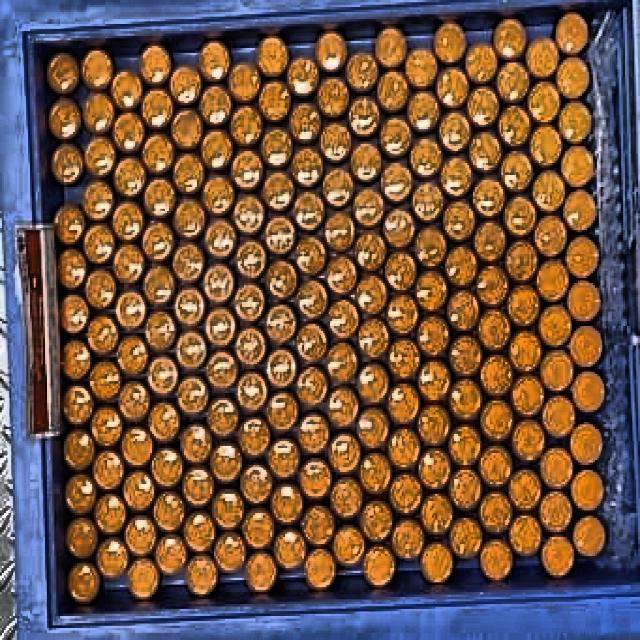vial: (531, 170, 567, 213), (125, 558, 161, 601), (538, 304, 573, 348), (542, 395, 577, 439), (298, 457, 333, 501), (66, 560, 101, 604), (145, 353, 179, 398), (61, 427, 95, 472), (444, 244, 479, 287), (540, 535, 575, 578), (328, 476, 363, 519), (182, 510, 217, 553), (266, 437, 301, 480), (356, 406, 391, 449), (326, 385, 361, 428), (175, 374, 210, 417), (345, 50, 379, 94), (557, 101, 591, 145), (529, 124, 563, 168), (563, 189, 597, 233), (503, 194, 537, 238), (505, 239, 539, 283), (413, 225, 447, 269), (411, 179, 445, 223), (567, 280, 601, 324), (510, 374, 544, 418), (479, 491, 513, 535), (273, 527, 307, 571), (331, 524, 365, 568), (364, 544, 397, 589), (148, 400, 180, 446), (446, 290, 481, 332), (570, 469, 605, 511), (416, 316, 451, 358), (448, 469, 483, 511), (302, 548, 337, 590), (356, 362, 391, 404), (93, 493, 128, 535), (123, 515, 158, 557), (141, 132, 175, 175), (379, 115, 413, 158), (497, 105, 531, 148), (565, 235, 599, 278), (540, 350, 574, 393), (179, 421, 213, 464), (377, 69, 410, 113), (572, 371, 605, 415), (245, 550, 278, 594), (96, 536, 129, 580), (287, 54, 319, 99), (527, 81, 562, 122), (448, 379, 483, 420), (416, 405, 451, 446), (300, 505, 335, 546), (239, 464, 274, 505), (181, 467, 216, 508), (233, 325, 268, 366), (149, 447, 184, 488), (154, 534, 189, 575), (199, 83, 233, 125), (561, 146, 595, 188), (473, 220, 507, 262), (439, 155, 473, 197), (201, 263, 235, 305), (265, 259, 299, 301), (415, 270, 449, 312), (507, 284, 541, 326), (508, 330, 542, 372), (573, 515, 607, 557), (539, 491, 573, 533), (509, 469, 543, 511), (387, 383, 421, 425), (328, 431, 362, 473), (297, 412, 331, 454), (237, 416, 271, 458), (265, 390, 299, 432), (235, 371, 269, 413), (174, 330, 208, 372), (205, 396, 239, 438), (61, 383, 95, 425), (526, 36, 559, 79), (556, 12, 589, 55), (86, 314, 119, 357), (570, 422, 603, 465), (480, 539, 513, 582), (270, 482, 303, 525), (296, 278, 329, 321), (264, 302, 297, 345), (118, 380, 151, 423), (64, 473, 97, 516), (153, 490, 186, 533), (259, 79, 291, 123), (465, 40, 497, 84), (473, 174, 505, 218), (141, 88, 175, 129), (229, 105, 263, 146), (319, 122, 353, 163), (435, 67, 469, 108), (494, 19, 528, 60), (495, 62, 529, 103), (499, 151, 533, 192), (469, 132, 503, 173), (533, 216, 567, 257), (383, 208, 417, 249), (142, 177, 176, 218), (113, 156, 147, 197), (110, 201, 144, 242), (509, 515, 543, 556), (480, 400, 514, 441), (448, 335, 482, 376), (241, 508, 275, 549), (184, 555, 218, 596), (295, 365, 329, 406), (205, 350, 239, 391), (90, 405, 124, 446), (120, 426, 154, 467), (122, 470, 156, 511), (48, 98, 81, 140), (112, 112, 145, 154), (256, 35, 289, 77), (315, 30, 348, 72), (556, 57, 589, 99), (84, 268, 117, 310), (512, 419, 545, 461), (479, 445, 512, 487), (480, 354, 513, 396), (418, 359, 451, 401), (448, 424, 481, 466), (449, 517, 482, 559), (420, 541, 453, 583), (420, 493, 453, 535), (388, 428, 421, 470), (213, 531, 246, 573), (360, 500, 393, 542), (210, 442, 243, 484), (264, 346, 297, 388), (173, 285, 206, 327), (92, 450, 125, 492), (407, 90, 439, 133), (537, 259, 569, 302), (392, 518, 424, 561), (212, 487, 244, 530), (358, 316, 390, 359), (117, 334, 149, 377), (232, 282, 267, 321), (61, 338, 92, 382), (347, 96, 381, 136), (263, 215, 297, 255), (293, 237, 327, 277), (82, 93, 115, 134), (110, 69, 143, 110), (228, 62, 261, 103), (433, 22, 466, 63), (476, 266, 509, 307), (322, 168, 355, 209), (292, 191, 325, 232), (172, 153, 205, 194), (232, 194, 265, 235), (82, 223, 115, 264), (54, 203, 87, 244), (114, 290, 147, 331), (354, 230, 387, 271), (384, 251, 417, 292), (418, 448, 451, 489), (388, 338, 421, 379), (359, 453, 392, 494), (144, 310, 177, 351), (65, 518, 98, 559), (169, 64, 201, 106), (171, 107, 203, 149), (199, 40, 231, 82), (349, 140, 381, 182), (405, 47, 437, 89), (439, 110, 471, 152), (443, 201, 475, 243), (381, 162, 413, 204), (85, 136, 117, 178), (173, 241, 205, 283), (570, 325, 602, 367), (390, 474, 422, 516), (204, 306, 236, 348), (409, 138, 443, 177), (261, 172, 295, 211), (325, 256, 359, 295), (142, 221, 175, 261), (325, 342, 358, 382), (139, 45, 171, 86), (201, 129, 233, 170), (261, 127, 293, 168), (289, 103, 321, 144), (317, 77, 349, 118), (467, 86, 499, 127), (353, 187, 385, 228), (203, 175, 235, 216), (205, 218, 237, 259), (83, 180, 115, 221), (386, 295, 418, 336), (540, 448, 572, 489), (478, 309, 510, 350), (296, 322, 328, 363), (90, 360, 122, 401), (290, 148, 323, 187), (112, 244, 145, 283), (234, 239, 267, 278), (356, 275, 389, 314), (47, 53, 79, 93), (231, 151, 263, 191), (173, 199, 205, 239), (328, 298, 360, 338), (57, 246, 86, 290), (375, 27, 406, 68), (52, 144, 83, 185), (59, 292, 90, 333), (81, 49, 113, 88), (143, 266, 175, 305), (324, 212, 355, 252)
